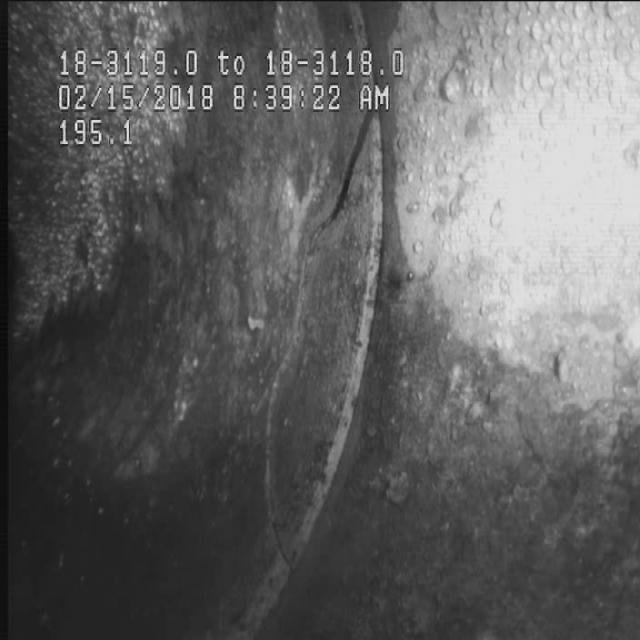Crack: (254, 150, 400, 556)
